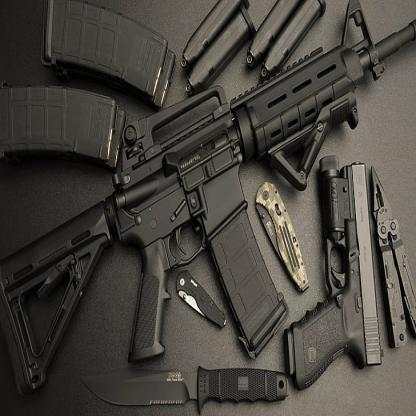Gun: (0, 0, 416, 397)
Knife: (78, 363, 290, 416), (255, 180, 310, 295), (175, 271, 228, 328)
Pistol: (283, 151, 386, 392)
